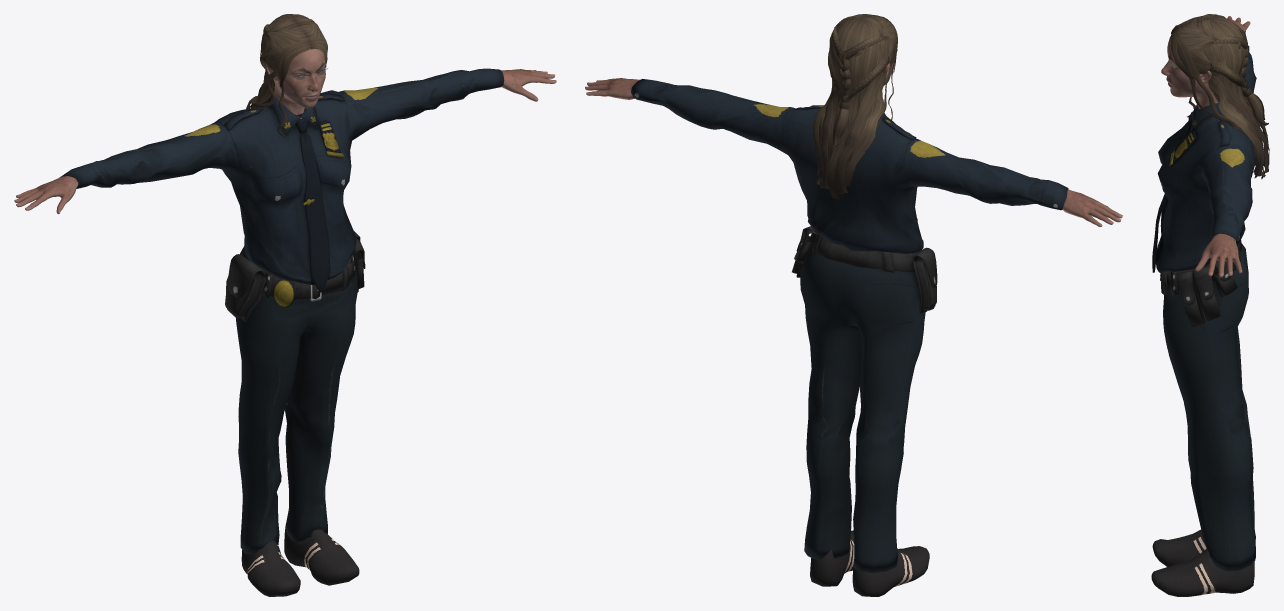
The model's file is Police Woman.obj.
3 views of the same model, side by side, from view 1: azimuth 30°, elevation 25°; view 2: azimuth 150°, elevation 25°; view 3: azimuth 270°, elevation 25° (orthographic).
Parts seen in each view (by area): view 1: Tops, Bottoms, Shoes, Body, Hair; view 2: Bottoms, Tops, Hair, Shoes, Body; view 3: Bottoms, Tops, Hair, Shoes, Body.
Boxes of the visible parts, x1,y1,x2,y2 form: Tops: (59,68,504,292); Bottoms: (225,231,365,554); Shoes: (241,523,359,596); Body: (14,49,556,214); Hair: (246,14,327,137); Bottoms: (792,226,937,572); Tops: (631,79,1068,253); Hair: (812,14,897,199); Shoes: (810,530,929,596); Body: (585,62,1122,226); Bottoms: (1160,240,1255,571); Tops: (1152,30,1256,272); Hair: (1170,14,1269,179); Shoes: (1151,529,1254,596); Body: (1161,16,1250,277).
Size of the model in its own units: 179 by 179 by 34.12.
Materials: 5 (5 with a texture image).
